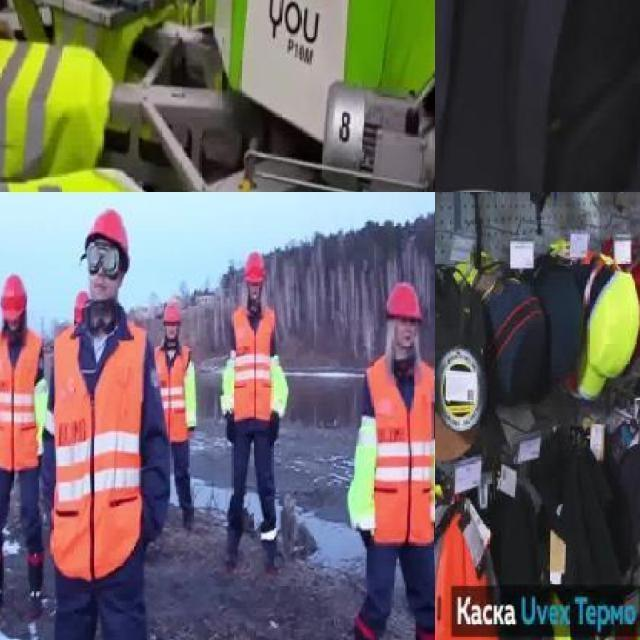apron: (358, 525, 372, 550), (433, 519, 435, 542)
